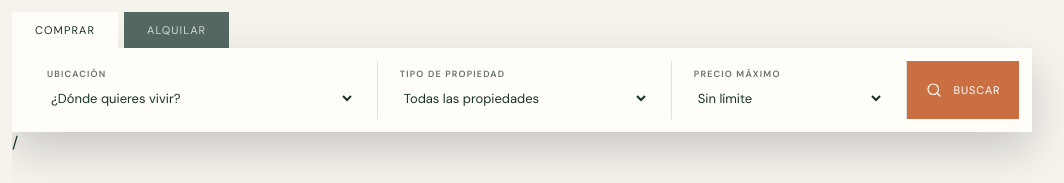
it: SearchPanel › cambia a alquiler, muestra sus precios y elimina el precio anterior
Select "2.000.000 €" in the dropdown labelled "Precio máximo" at (789, 98), box [694, 85, 884, 112]
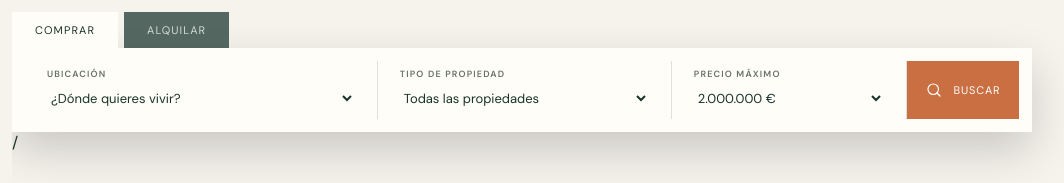
Click the button "Alquilar" at (177, 30), box [124, 12, 229, 48]
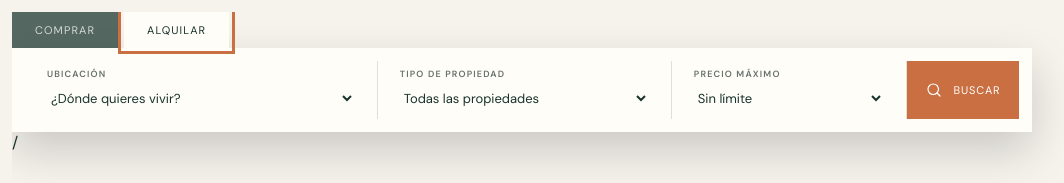
Expected: the option "2.000.000 €" is not shown
Now the dropdown labelled "Precio máximo" shows "Sin límite", box [694, 85, 884, 112]
Select "Barcelona" in the dropdown labelled "Ubicación" at (201, 98), box [47, 85, 355, 112]
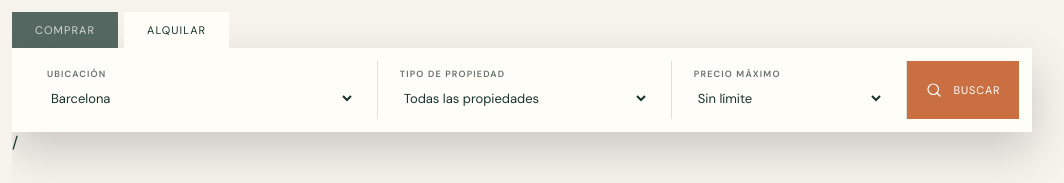
Select "3.000 €/mes" in the dropdown labelled "Precio máximo" at (789, 98), box [694, 85, 884, 112]
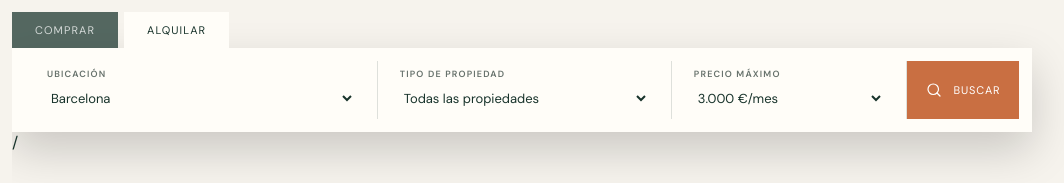
Click the button "Buscar" at (963, 90), box [907, 61, 1019, 119]
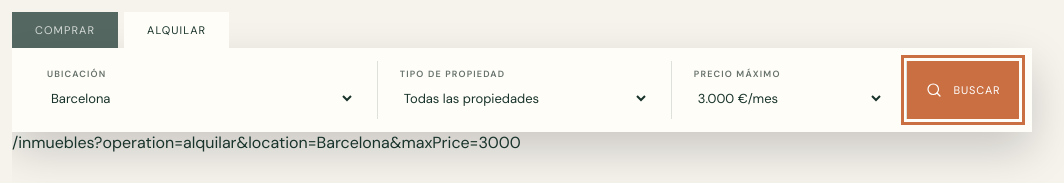
Now the text named "Dirección actual" reads "/inmuebles?operation=alquilar&location=Barcelona&maxPrice=3000", box [12, 132, 521, 153]
